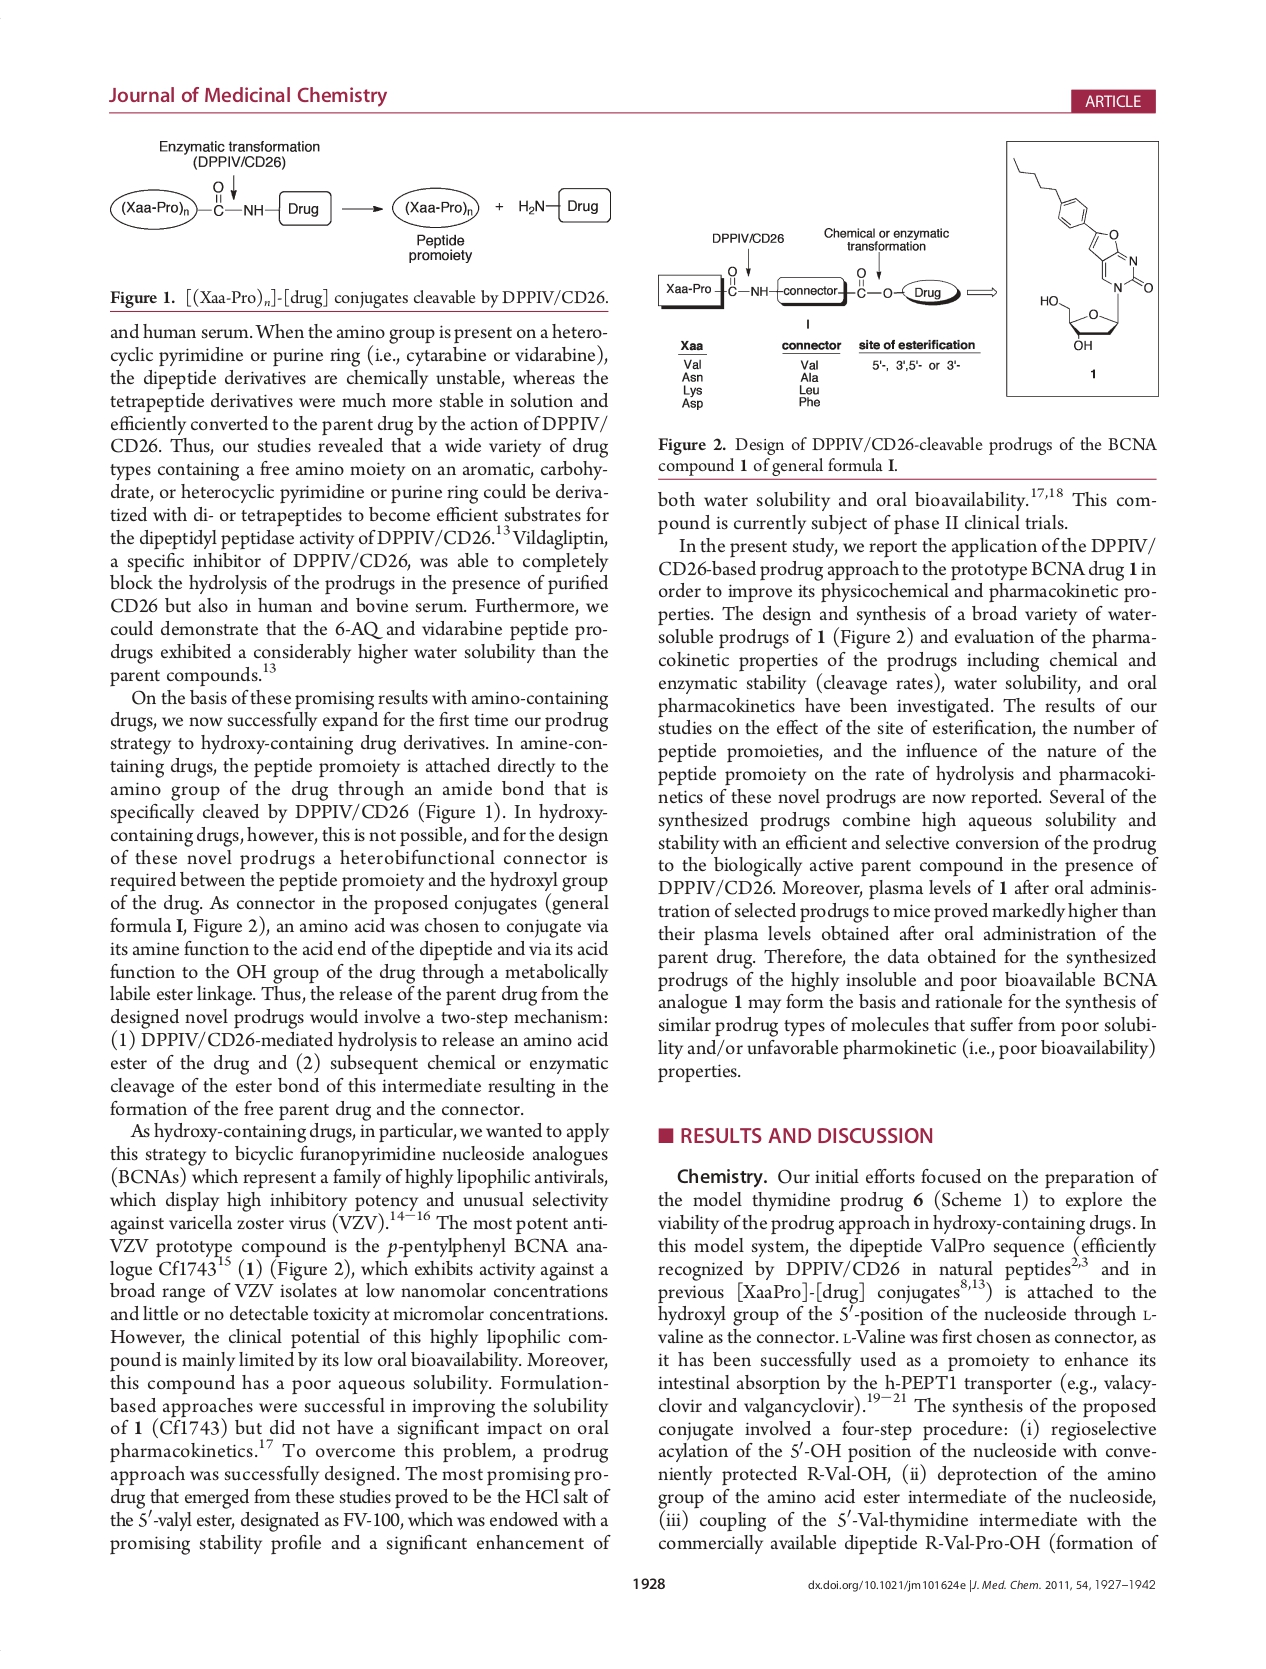exist_molecular: (1009, 152, 1154, 354), (653, 265, 960, 311), (110, 178, 335, 231), (519, 186, 614, 223)
